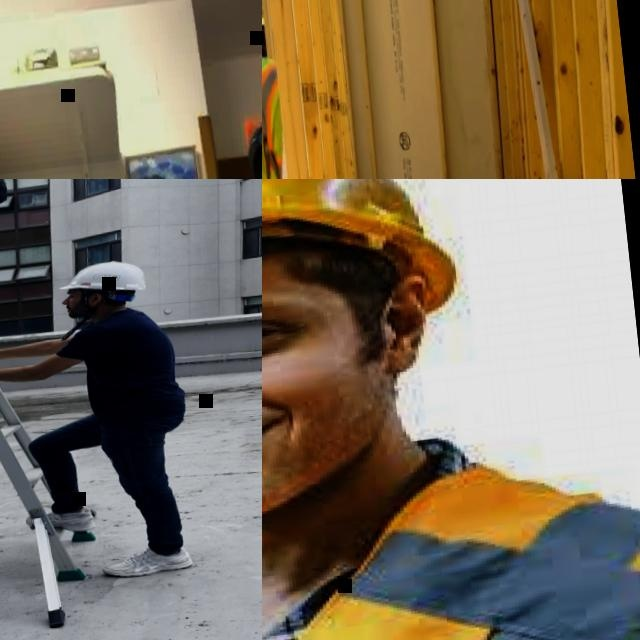Hardhat: (262, 179, 459, 367), (59, 257, 147, 301)
NO-Mask: (262, 335, 431, 534), (63, 297, 88, 321)
NO-Safety Vest: (79, 302, 192, 438)
Person: (262, 179, 640, 640), (0, 252, 211, 595)
Safety Vest: (262, 437, 640, 640), (262, 53, 291, 179)
